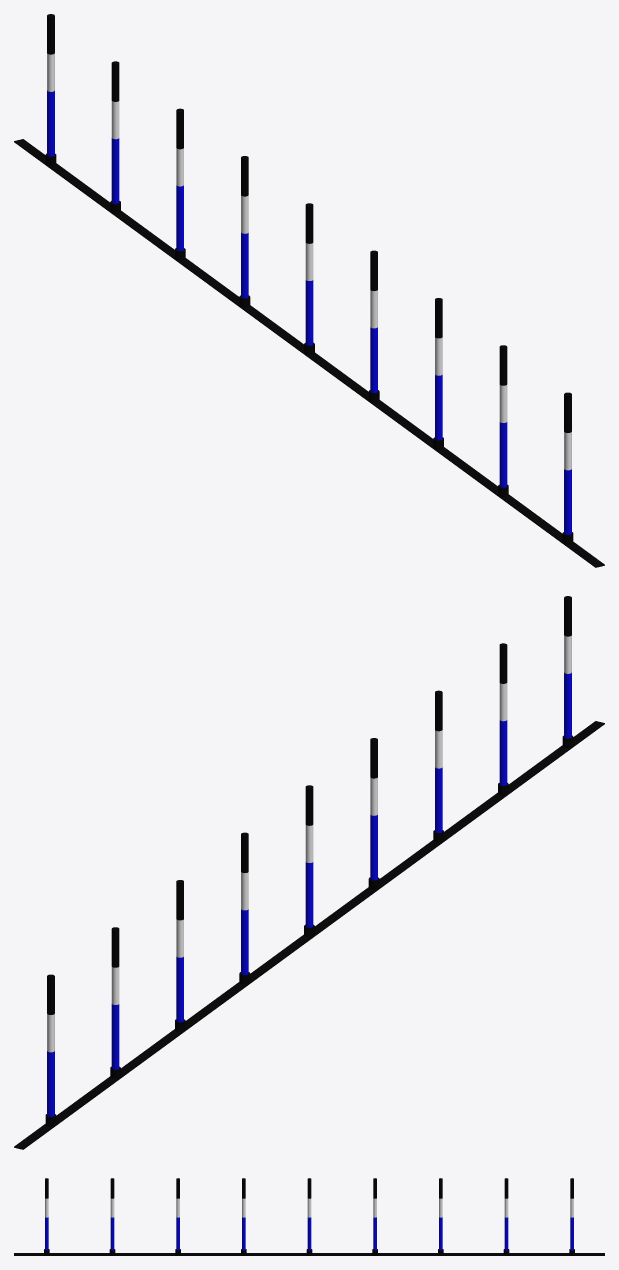
File: Pole-2.gltf
3 renders of one model, top to bottom at view 1: azimuth 30°, elevation 25°; view 2: azimuth 150°, elevation 25°; view 3: azimuth 270°, elevation 25°, orthographic. The views are drawn at different scales.
Visible parts, largest first — view 1: pole (×9); view 2: pole (×9); view 3: pole (×9), base (×9).
Boxes of the visible parts, x1=… form: pole (×9): x1=14, y1=139, x2=604, y2=567; pole (×9): x1=14, y1=721, x2=604, y2=1149; pole (×9): x1=14, y1=1249, x2=604, y2=1255; base (×9): x1=45, y1=1217, x2=573, y2=1250.
Size of the model in its own units: 0.05 by 0.763 by 5.4.
